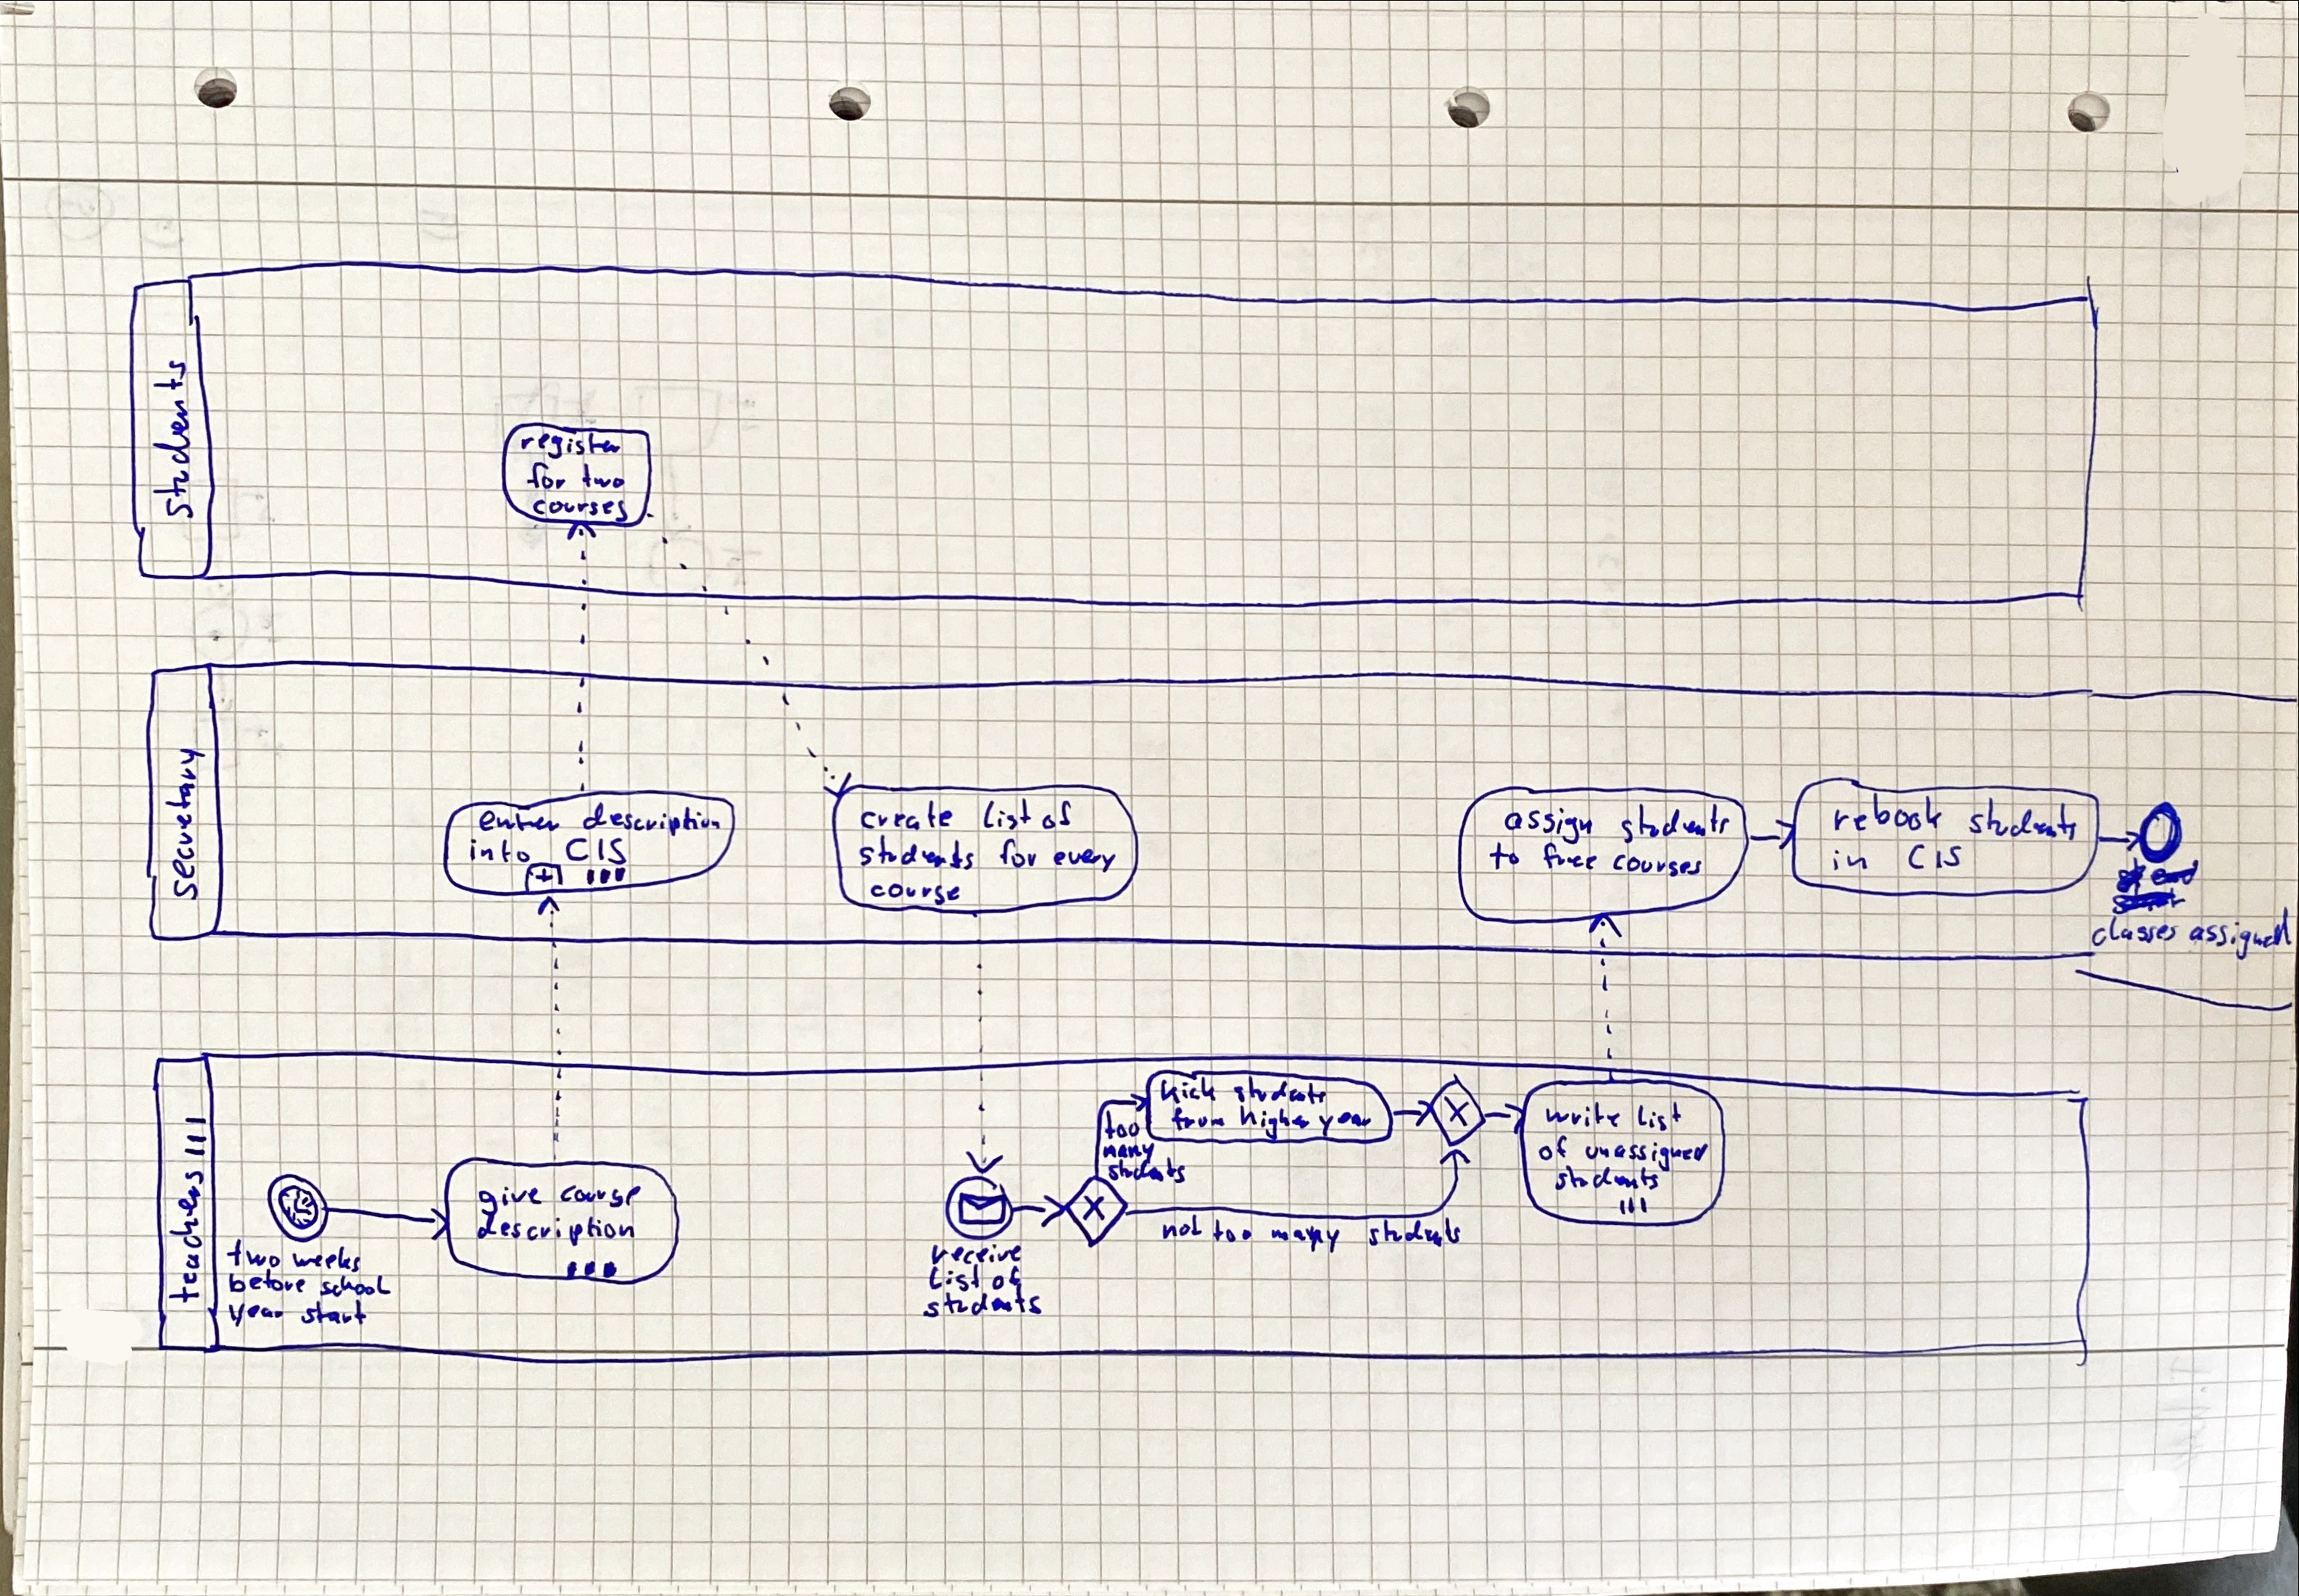CIS: (564, 835, 629, 865), (1905, 844, 1964, 873)
III: (563, 1256, 621, 1279), (584, 863, 630, 886), (183, 1115, 208, 1160), (1618, 1193, 1649, 1215)
List: (981, 798, 1032, 831), (927, 1265, 986, 1292), (1636, 1101, 1685, 1132)
assign: (1506, 800, 1598, 840)
assigned: (2187, 906, 2294, 961)
before: (227, 1268, 310, 1294)
classes: (2089, 915, 2182, 948)
course: (869, 881, 964, 902), (557, 1184, 643, 1209)
courses: (535, 487, 634, 514), (1612, 852, 1706, 879)
create: (858, 799, 956, 832)
description: (476, 1210, 637, 1249), (581, 800, 722, 837)
enter: (478, 810, 563, 834)
every: (1052, 847, 1119, 872)
for: (998, 835, 1043, 868), (524, 462, 568, 491)
free: (1541, 843, 1600, 870)
from: (1169, 1105, 1228, 1131)
give: (476, 1185, 544, 1215)
higher: (1238, 1103, 1312, 1138)
in: (1831, 847, 1873, 872)
into: (468, 832, 537, 862)
kick: (1159, 1076, 1219, 1103)
many: (1269, 1221, 1342, 1255), (1101, 1141, 1157, 1164)
not: (1156, 1217, 1204, 1242)
of: (1040, 798, 1077, 831), (990, 1265, 1024, 1292), (1537, 1134, 1571, 1162)
rebook: (1830, 792, 1947, 834)
receive: (929, 1241, 1022, 1266)
register: (518, 428, 625, 458)
school: (318, 1276, 392, 1297)
secretary: (167, 745, 207, 903)
start: (300, 1299, 368, 1325)
students: (151, 358, 194, 522), (1617, 803, 1733, 844), (1967, 794, 2081, 836), (858, 831, 979, 868), (921, 1290, 1045, 1320), (1553, 1163, 1662, 1192), (1367, 1217, 1465, 1249), (1233, 1075, 1330, 1102), (1106, 1156, 1190, 1184)
teachers: (168, 1166, 207, 1305)
to: (1488, 840, 1522, 871)
too: (1211, 1217, 1254, 1244), (1100, 1113, 1139, 1142)
two: (225, 1237, 283, 1268), (579, 462, 629, 492)
unassigned: (1583, 1144, 1710, 1169)
weeks: (292, 1239, 366, 1268)
write: (1543, 1100, 1623, 1126)
year: (1317, 1110, 1375, 1136), (227, 1302, 288, 1326)
